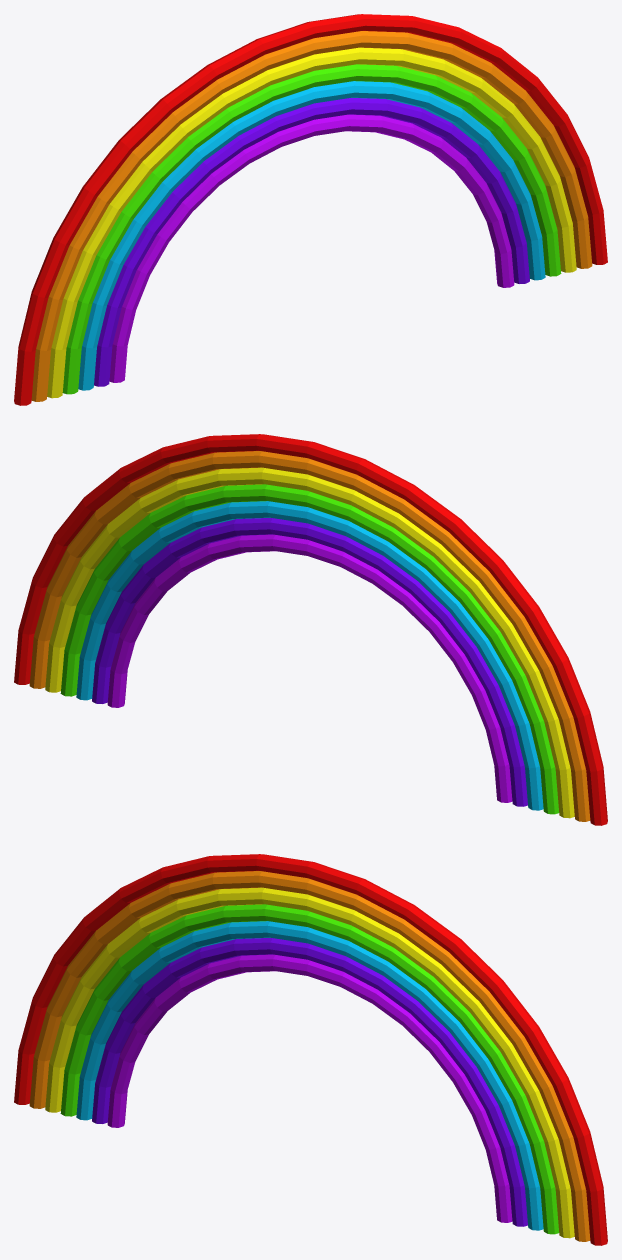
File: Rainbow.obj
3 renders of one model, top to bottom at view 1: azimuth 30°, elevation 25°; view 2: azimuth 150°, elevation 25°; view 3: azimuth 330°, elevation 25°, orthographic.
Parts seen in each view (by area): view 1: Torus.6, Torus.5, Torus.4, Torus.3, Torus.2, Torus.1, Torus; view 2: Torus.6, Torus.5, Torus.4, Torus.3, Torus.2, Torus.1, Torus; view 3: Torus.6, Torus.5, Torus.4, Torus.3, Torus.2, Torus.1, Torus.
Part boxes in pixels (x1=…): Torus.6: x1=14, y1=14, x2=607, y2=405; Torus.5: x1=31, y1=31, x2=592, y2=401; Torus.4: x1=47, y1=47, x2=576, y2=398; Torus.3: x1=62, y1=64, x2=561, y2=394; Torus.2: x1=78, y1=81, x2=545, y2=390; Torus.1: x1=94, y1=98, x2=529, y2=386; Torus: x1=109, y1=114, x2=514, y2=382; Torus.6: x1=14, y1=434, x2=607, y2=825; Torus.5: x1=29, y1=451, x2=590, y2=821; Torus.4: x1=45, y1=467, x2=574, y2=818; Torus.3: x1=60, y1=484, x2=559, y2=814; Torus.2: x1=76, y1=501, x2=543, y2=810; Torus.1: x1=92, y1=518, x2=527, y2=806; Torus: x1=107, y1=534, x2=512, y2=802; Torus.6: x1=14, y1=854, x2=607, y2=1245; Torus.5: x1=29, y1=871, x2=590, y2=1241; Torus.4: x1=45, y1=887, x2=574, y2=1238; Torus.3: x1=60, y1=904, x2=559, y2=1234; Torus.2: x1=76, y1=921, x2=543, y2=1230; Torus.1: x1=92, y1=938, x2=527, y2=1226; Torus: x1=107, y1=954, x2=512, y2=1222.
Size of the model in its own units: 389 by 195 by 10.24.
